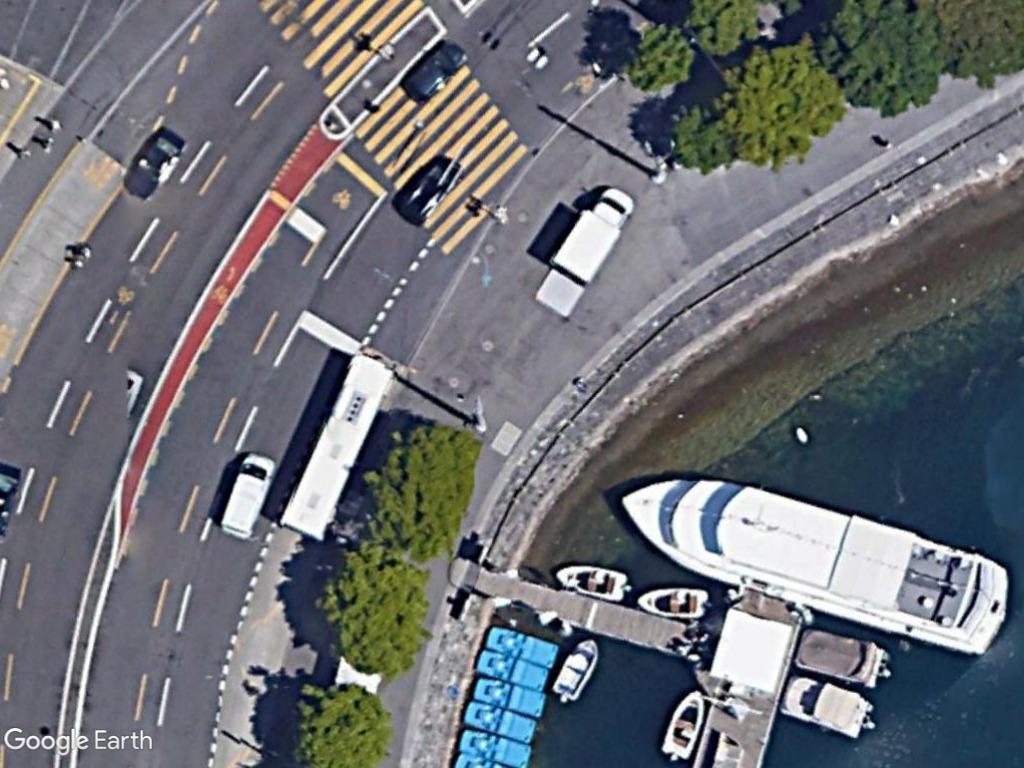boat: (617, 472, 1013, 660), (634, 580, 712, 627), (659, 689, 707, 762), (551, 635, 600, 704), (554, 563, 630, 603)
bus: (275, 354, 395, 544)
car: (401, 38, 470, 104)
truck: (548, 182, 638, 290)
van: (220, 451, 276, 541)
